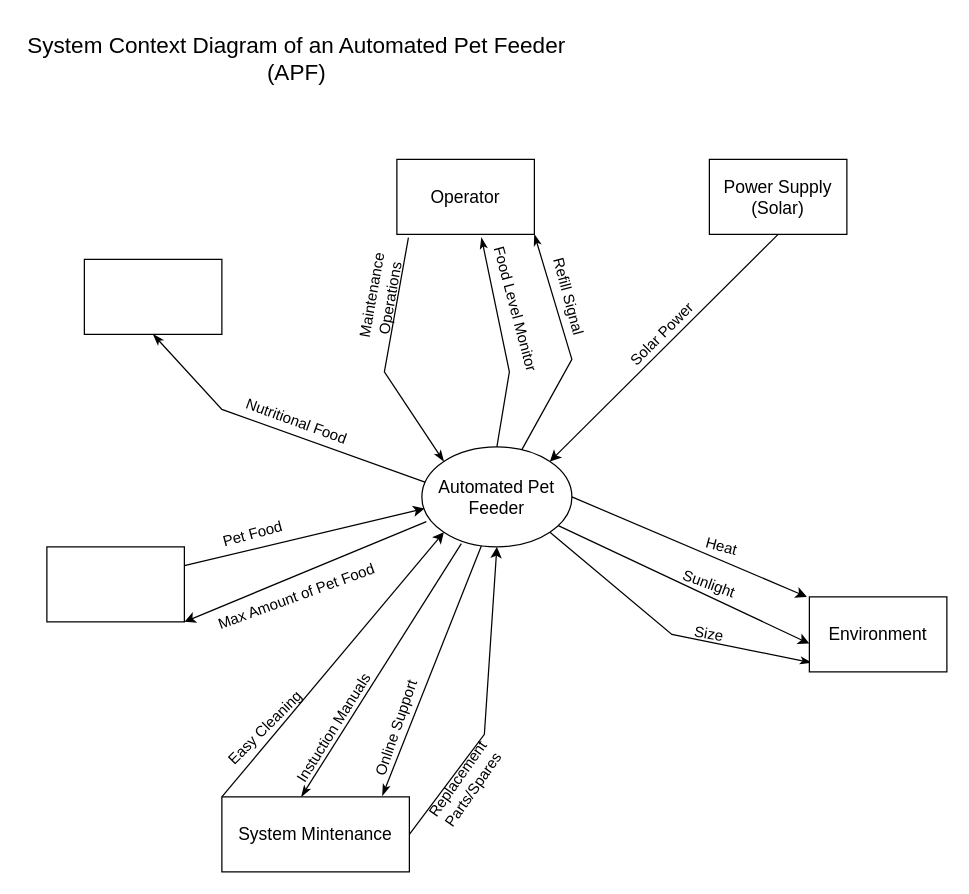
Some shapes in this 969 by 894 pixel diagram are drawn without their labels. The centre of each missing label's shape, as x and y in pixels:
"Pet" belongs at (152,296).
"Pet Food Container" belongs at (115,584).
